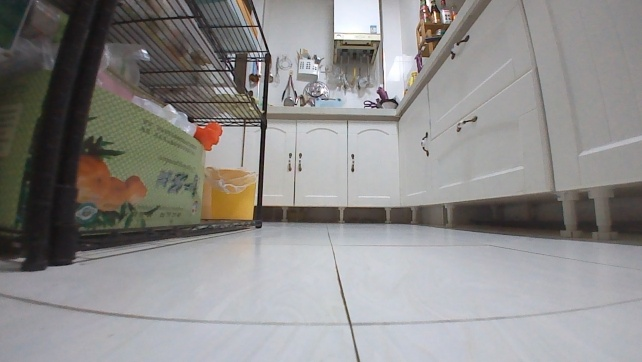cupboard: (203, 0, 641, 243)
